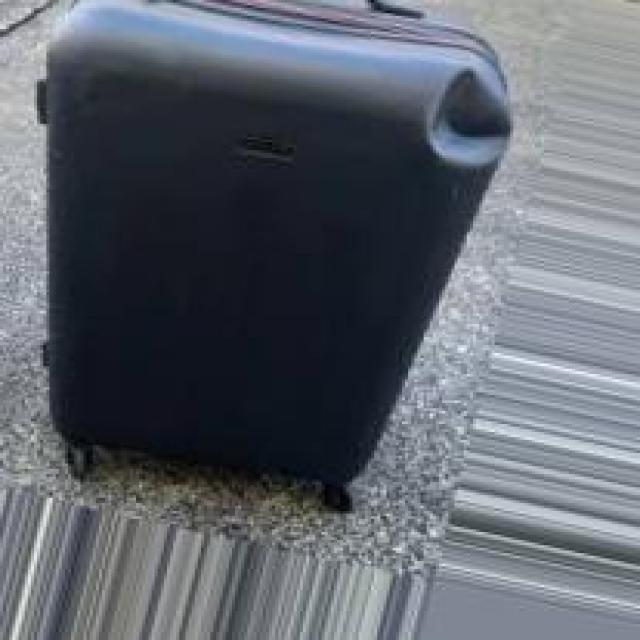Damage-bag: (421, 70, 511, 168)
